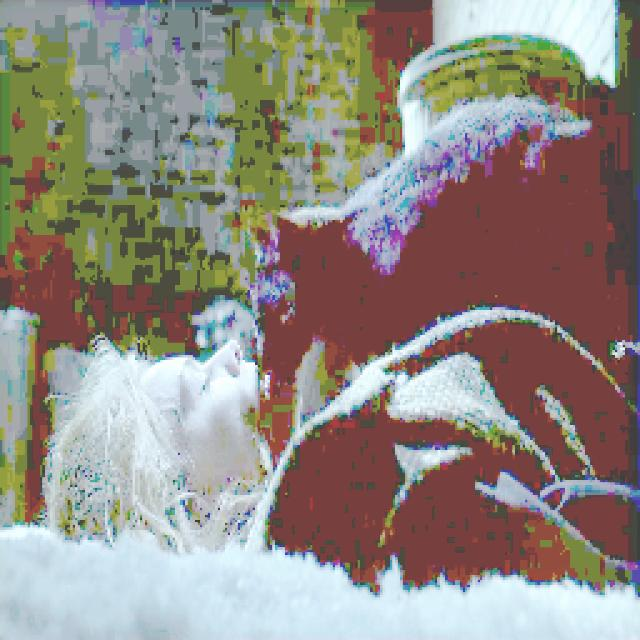cat: (201, 86, 609, 402)
